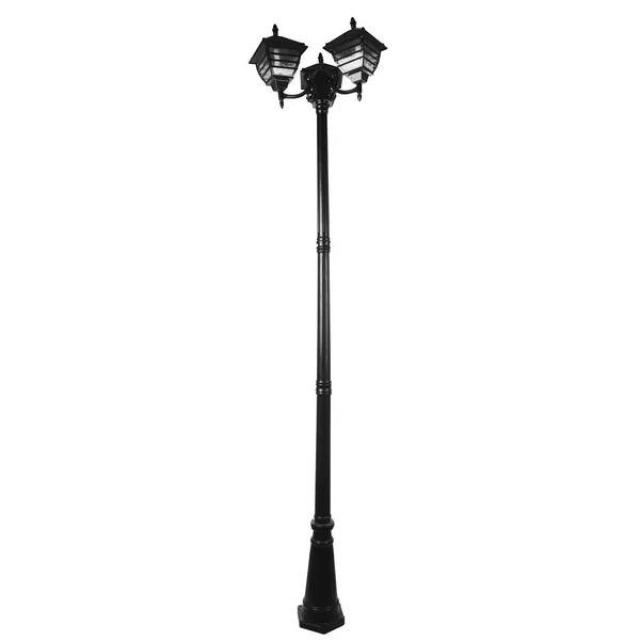Pole: (250, 18, 387, 634)
